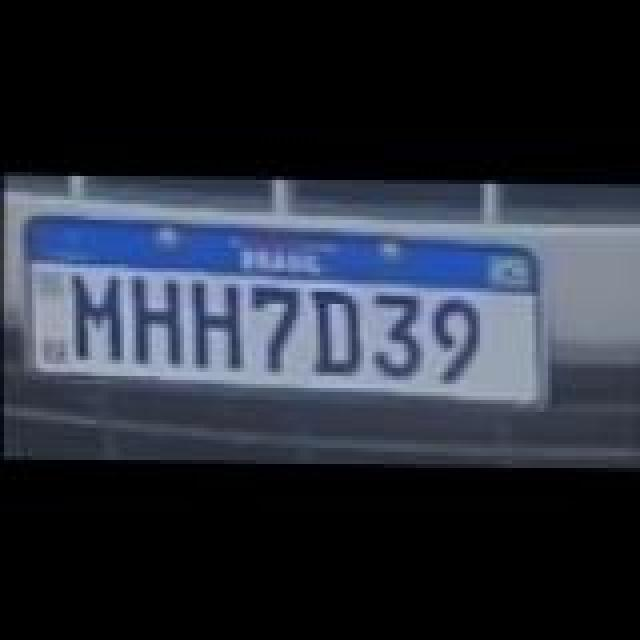3: (372, 290, 432, 378)
7: (250, 284, 306, 372)
9: (430, 296, 486, 380)
D: (306, 284, 370, 372)
H: (124, 272, 192, 364), (186, 276, 250, 368)
M: (64, 270, 132, 362)
